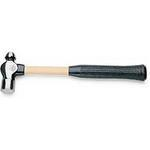hammer: (0, 49, 147, 93)
